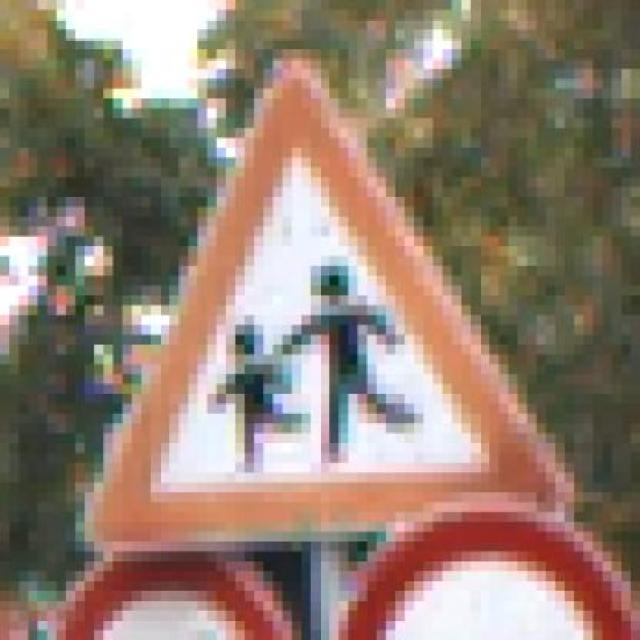Beware of children: (75, 59, 574, 542)
